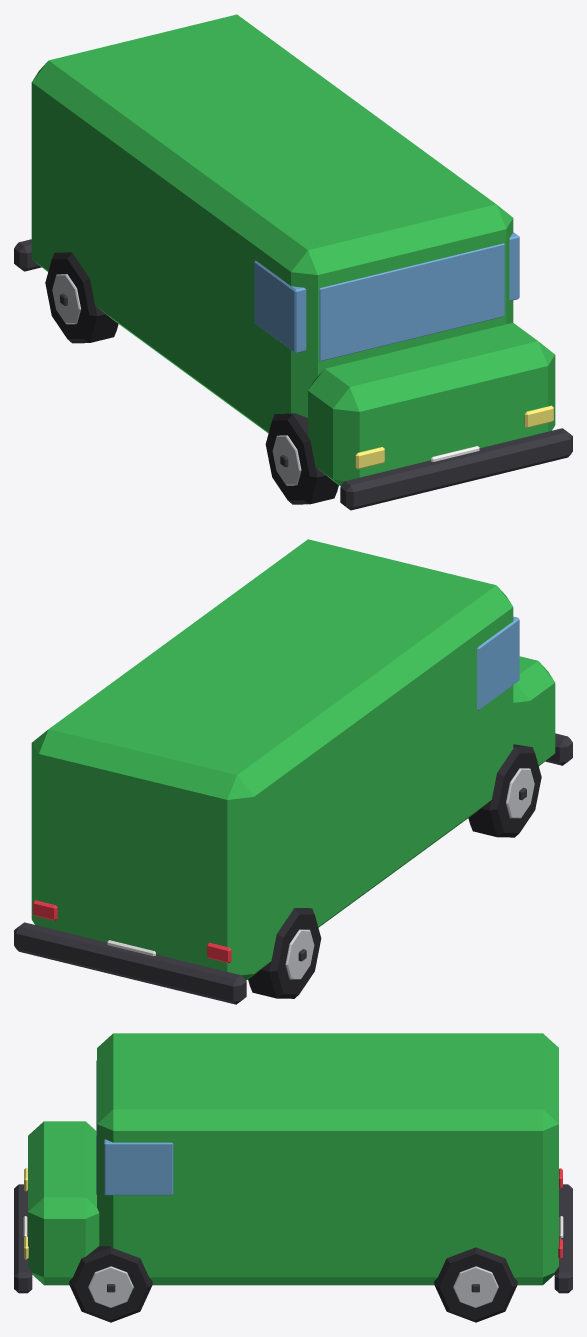
The model's file is GreenVan.fbx.
3 views of the same model, one above another, from view 1: azimuth 30°, elevation 25°; view 2: azimuth 150°, elevation 25°; view 3: azimuth 270°, elevation 25° (orthographic). The views are drawn at different scales.
Parts seen in each view (by area): view 1: GreenVan, GreenVan_WheelFR, GreenVan_WheelBR; view 2: GreenVan, GreenVan_WheelFR, GreenVan_WheelBR; view 3: GreenVan, GreenVan_WheelFL, GreenVan_WheelBL.
Boxes of the visible parts, left/top/right/bottom form: GreenVan: left=14, top=14, right=572, bottom=510; GreenVan_WheelFR: left=265, top=413, right=338, bottom=504; GreenVan_WheelBR: left=45, top=252, right=118, bottom=343; GreenVan: left=14, top=539, right=572, bottom=1004; GreenVan_WheelFR: left=468, top=744, right=541, bottom=837; GreenVan_WheelBR: left=248, top=908, right=321, bottom=998; GreenVan: left=14, top=1033, right=572, bottom=1293; GreenVan_WheelFL: left=69, top=1245, right=152, bottom=1322; GreenVan_WheelBL: left=434, top=1247, right=517, bottom=1322.
Size of the model in its own units: 5.02 by 4.93 by 12.1.
Materials: 1 (1 with a texture image).
